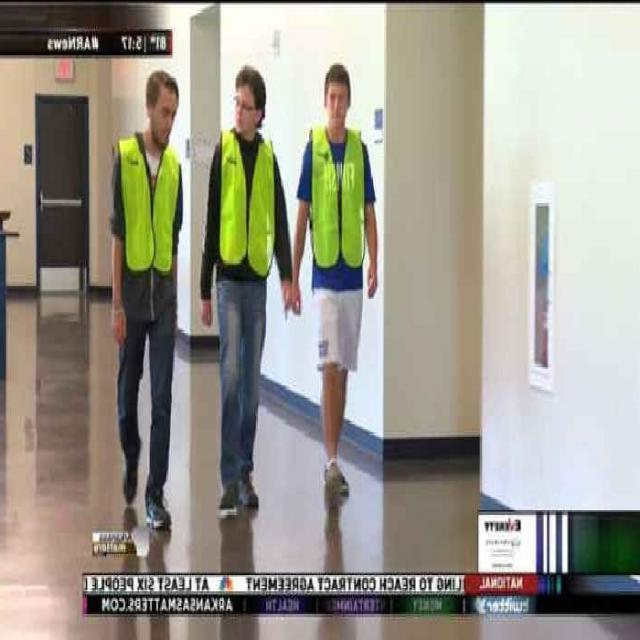safety_vest: (304, 128, 372, 284), (212, 132, 280, 278), (113, 138, 180, 278)
